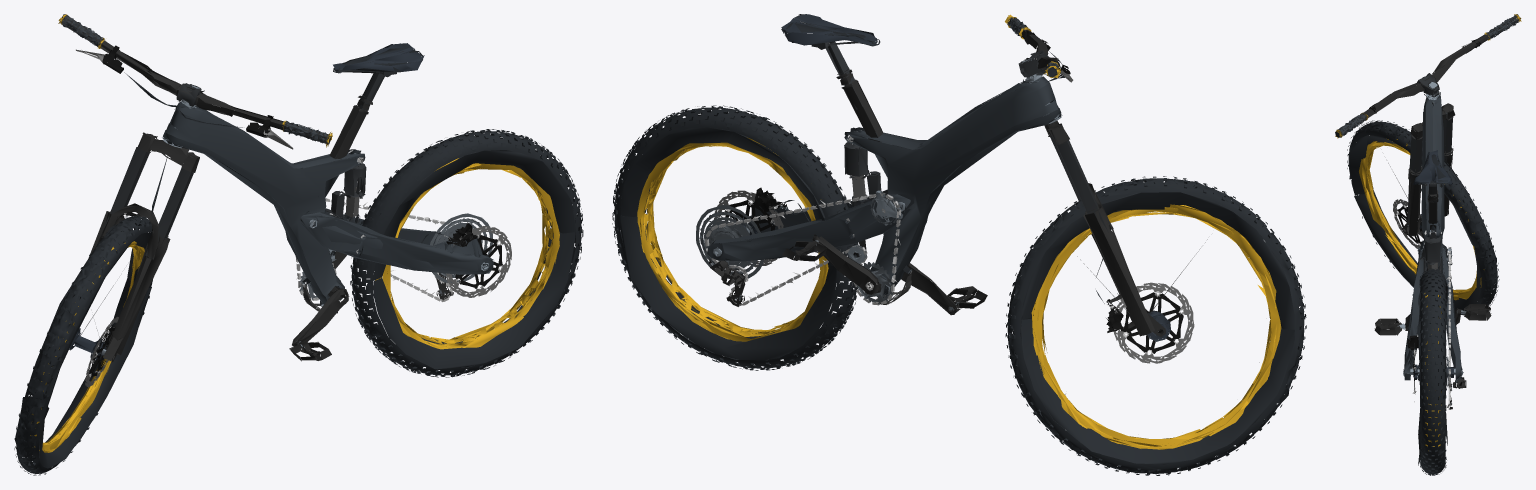
The model's file is CarbonFrameBike_LOD2.fbx.
The picture shows the model from 3 angles, left to right: view 1: azimuth 30°, elevation 25°; view 2: azimuth 150°, elevation 25°; view 3: azimuth 270°, elevation 25°; orthographic projection. The views are drawn at different scales.
Visible parts, largest first — view 1: MM_CarbonBike_mobile_overview; view 2: MM_CarbonBike_mobile_overview; view 3: MM_CarbonBike_mobile_overview.
Boxes of the visible parts, x1,y1,x2,y2 form: MM_CarbonBike_mobile_overview: (14, 14, 583, 475); MM_CarbonBike_mobile_overview: (612, 14, 1306, 475); MM_CarbonBike_mobile_overview: (1335, 14, 1521, 475).
Bounding box in the file's own units: 1.8 × 1.16 × 0.6153.
